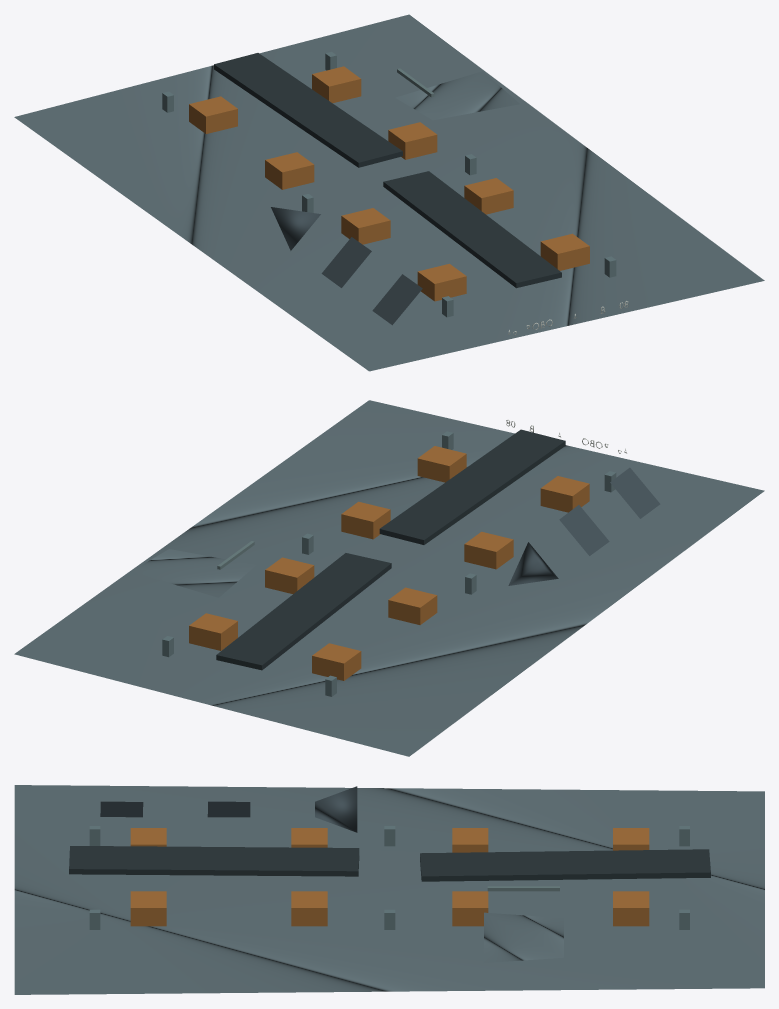
The model's file is robotic_assembly_line_d3_lod2.meshopt.glb.
The picture shows the model from 3 angles, top to bottom: view 1: azimuth 30°, elevation 25°; view 2: azimuth 150°, elevation 25°; view 3: azimuth 270°, elevation 25°; orthographic projection. The views are drawn at different scales.
Parts seen in each view (by area): view 1: ROBOTIC_ASSEMBLY_LINE_LOD2_STATIC_GEOMETRY; view 2: ROBOTIC_ASSEMBLY_LINE_LOD2_STATIC_GEOMETRY; view 3: ROBOTIC_ASSEMBLY_LINE_LOD2_STATIC_GEOMETRY.
Boxes of the visible parts, left/top/right/bottom form: ROBOTIC_ASSEMBLY_LINE_LOD2_STATIC_GEOMETRY: left=14, top=14, right=764, bottom=371; ROBOTIC_ASSEMBLY_LINE_LOD2_STATIC_GEOMETRY: left=14, top=400, right=764, bottom=756; ROBOTIC_ASSEMBLY_LINE_LOD2_STATIC_GEOMETRY: left=14, top=785, right=764, bottom=994.
Size of the model in its own units: 17.99 by 2.14 by 28.02.
